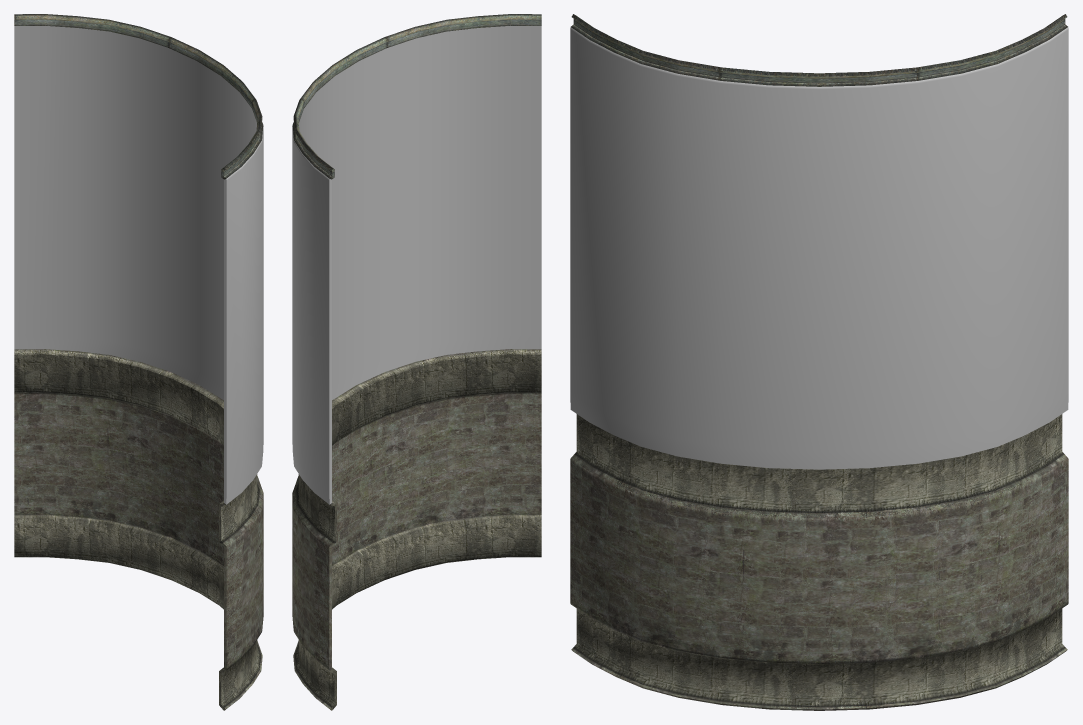
The model's file is Bigendwall.fbx.
3 renders of one model, left to right at view 1: azimuth 30°, elevation 25°; view 2: azimuth 150°, elevation 25°; view 3: azimuth 270°, elevation 25°, orthographic. The views are drawn at different scales.
Parts seen in each view (by area): view 1: Mesh Object; view 2: Mesh Object; view 3: Mesh Object.
Boxes of the visible parts, bbox=[...] form: Mesh Object: bbox=[14, 14, 263, 710]; Mesh Object: bbox=[292, 14, 541, 710]; Mesh Object: bbox=[570, 14, 1068, 710].
Size of the model in its own units: 4.23 by 20.02 by 14.17.
